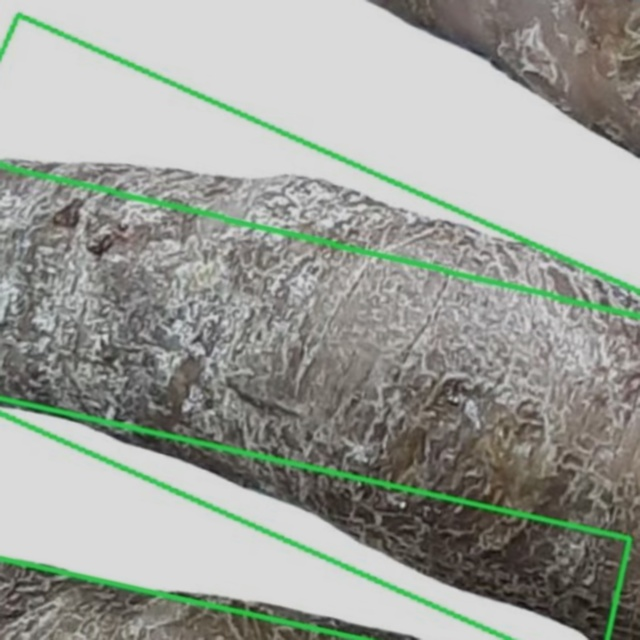Eczema: (0, 15, 639, 639), (0, 0, 639, 316), (0, 398, 629, 639)
